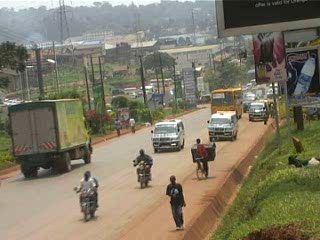Motorcycle: (71, 168, 102, 224), (131, 148, 154, 190)
